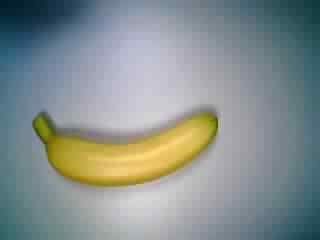banana: (31, 103, 221, 186)
